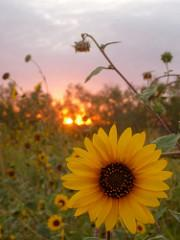sunflower: (65, 127, 172, 232)
